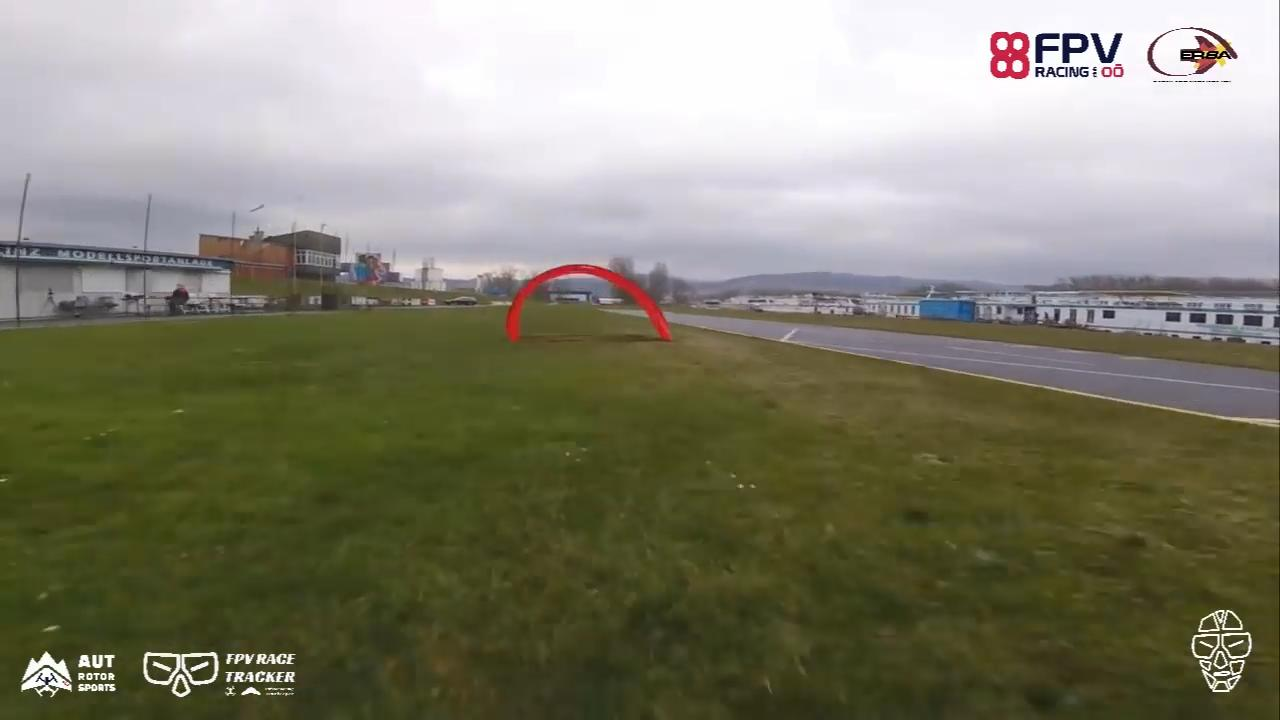gate: (503, 262, 677, 341)
